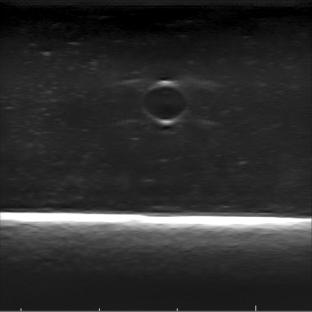vessel: (140, 80, 190, 125)
